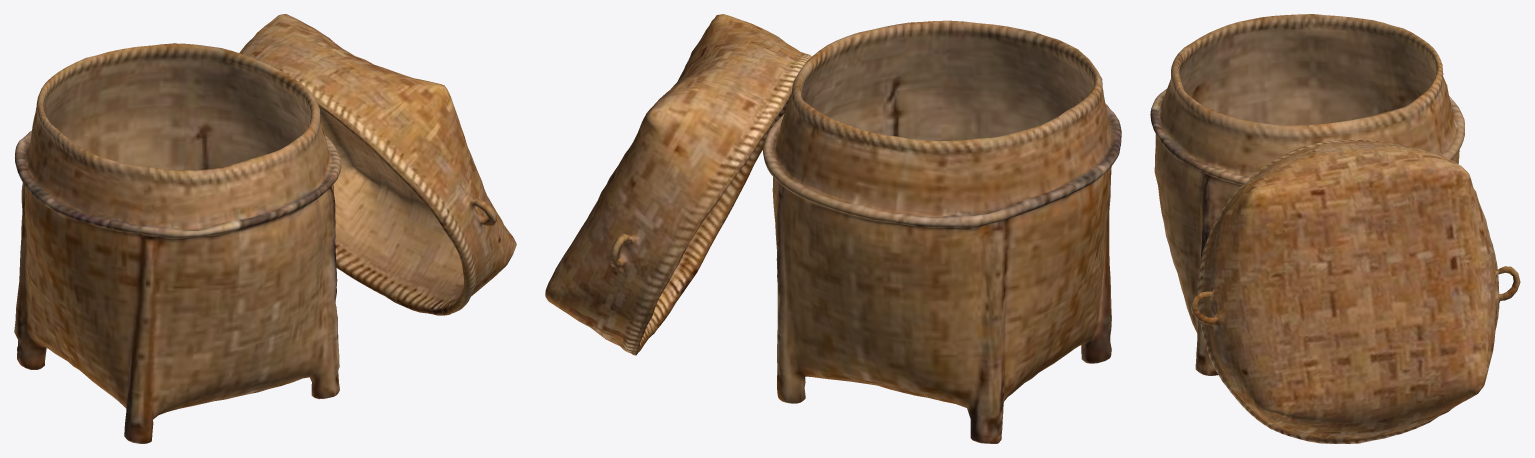
The picture shows the model from 3 angles, left to right: view 1: azimuth 30°, elevation 25°; view 2: azimuth 150°, elevation 25°; view 3: azimuth 270°, elevation 25°; orthographic projection. The views are drawn at different scales.
Parts seen in each view (by area): view 1: wicker_basket_02_base, wicker_basket_02_lid; view 2: wicker_basket_02_base, wicker_basket_02_lid; view 3: wicker_basket_02_lid, wicker_basket_02_base.
Part boxes in pixels (x1,y1,x2,y2): wicker_basket_02_base: (14,43,341,443); wicker_basket_02_lid: (239,14,516,315); wicker_basket_02_base: (763,20,1121,443); wicker_basket_02_lid: (545,14,811,355); wicker_basket_02_lid: (1190,140,1520,443); wicker_basket_02_base: (1150,14,1464,375).
Bounding box in the file's own units: 0.3469 × 0.2005 × 0.2545.
Materials: 1 (1 with a texture image).
